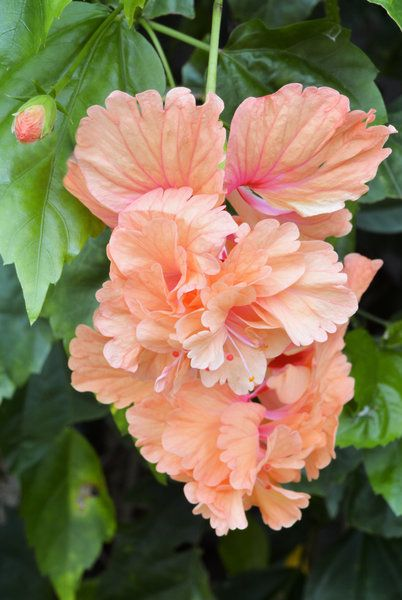Hibiscus: (72, 97, 371, 543), (9, 75, 63, 146)
